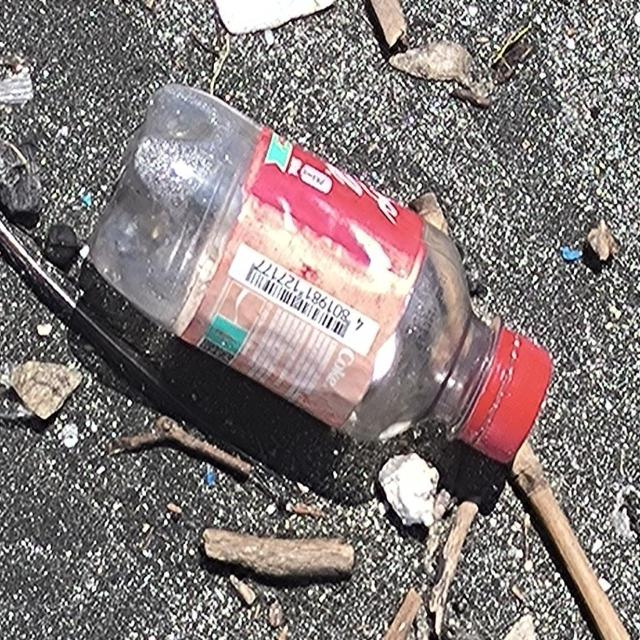plastic_waste: (86, 85, 553, 467)
